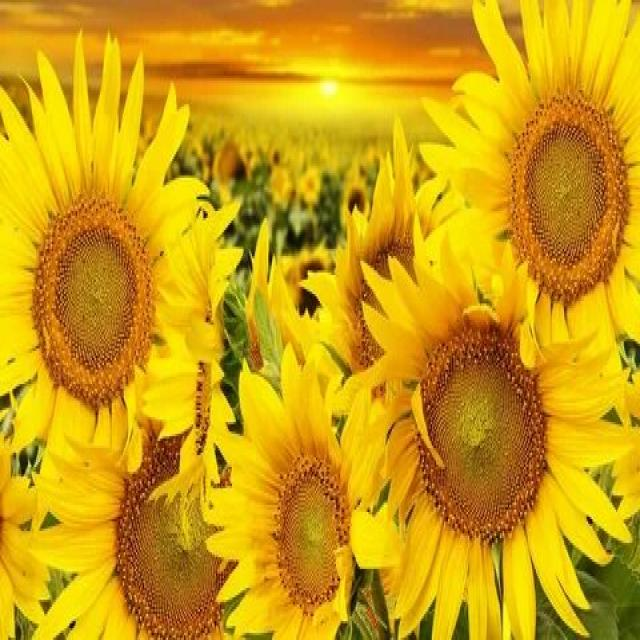sunflower: (352, 223, 639, 640), (3, 31, 224, 517), (420, 2, 640, 410), (202, 353, 374, 640)
